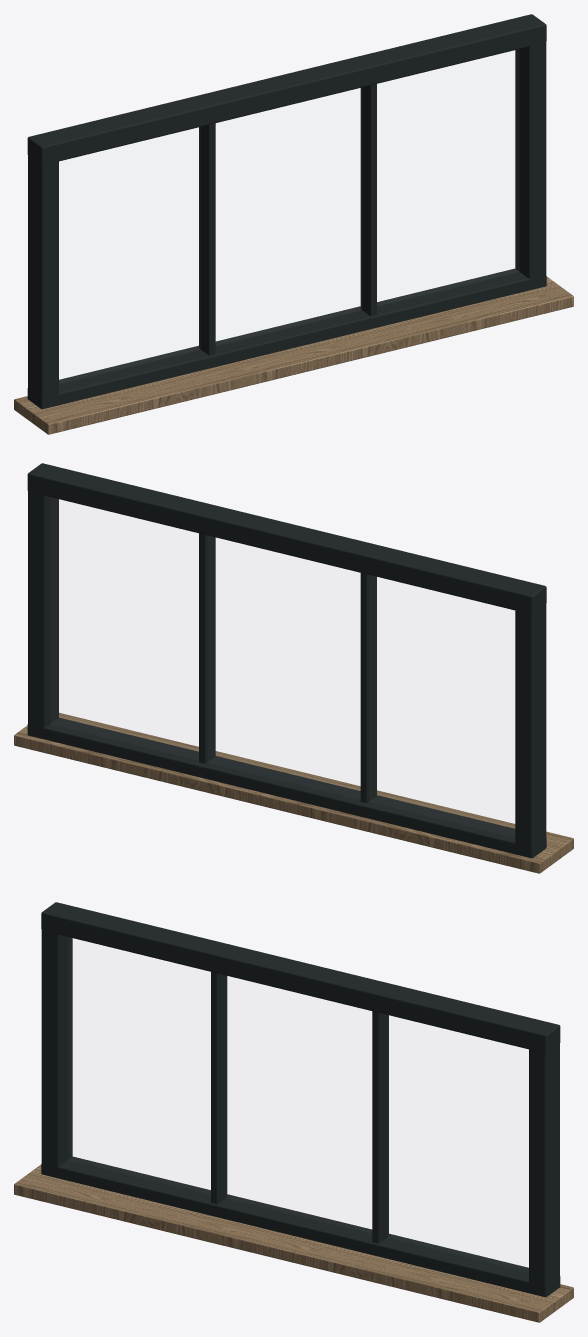
File: modern-bar-window.glb
3 renders of one model, top to bottom at view 1: azimuth 30°, elevation 25°; view 2: azimuth 150°, elevation 25°; view 3: azimuth 330°, elevation 25°, orthographic.
Visible parts, largest first — view 1: modern-bar-window - Modern Bar powder coated charcoal steel , modern-bar-window - Modern Bar satin walnut joinery runtime ; view 2: modern-bar-window - Modern Bar powder coated charcoal steel , modern-bar-window - Modern Bar satin walnut joinery runtime ; view 3: modern-bar-window - Modern Bar powder coated charcoal steel , modern-bar-window - Modern Bar satin walnut joinery runtime .
Boxes of the visible parts, x1=… form: modern-bar-window - Modern Bar powder coated charcoal steel : x1=27, y1=14, x2=546, y2=409; modern-bar-window - Modern Bar satin walnut joinery runtime : x1=14, y1=276, x2=573, y2=434; modern-bar-window - Modern Bar powder coated charcoal steel : x1=27, y1=463, x2=546, y2=858; modern-bar-window - Modern Bar satin walnut joinery runtime : x1=14, y1=712, x2=573, y2=873; modern-bar-window - Modern Bar powder coated charcoal steel : x1=41, y1=902, x2=560, y2=1297; modern-bar-window - Modern Bar satin walnut joinery runtime : x1=14, y1=1164, x2=573, y2=1322.
Bounding box in the file's own units: 3.52 × 1.75 × 0.4.
3 materials, 1 textured.
